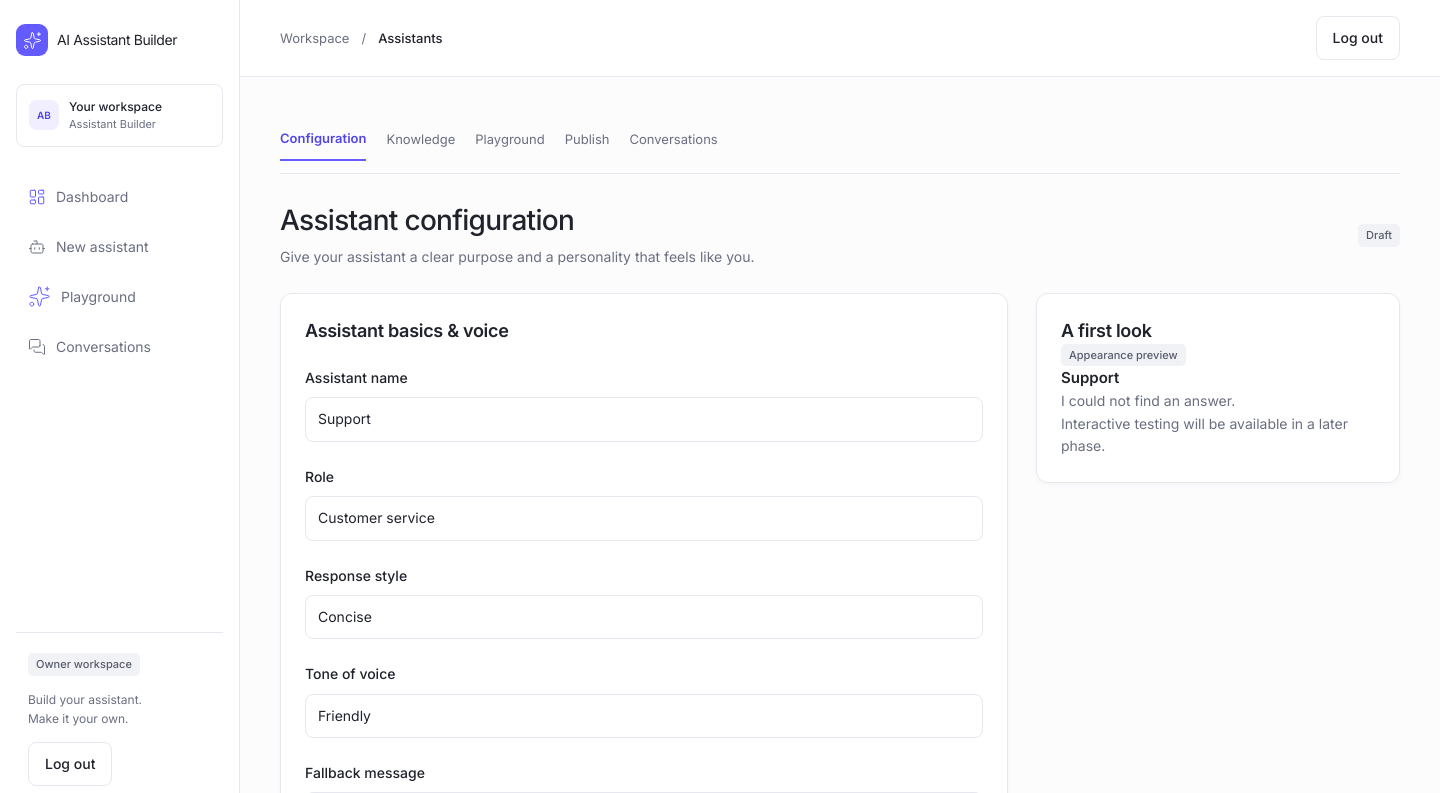
UI-04 assistant integration › retains input after a failed save
The image size is (1440, 793).
In the field labelled "Assistant name": (644, 420) [305, 397, 983, 442], type " edited"
(page scrolled)
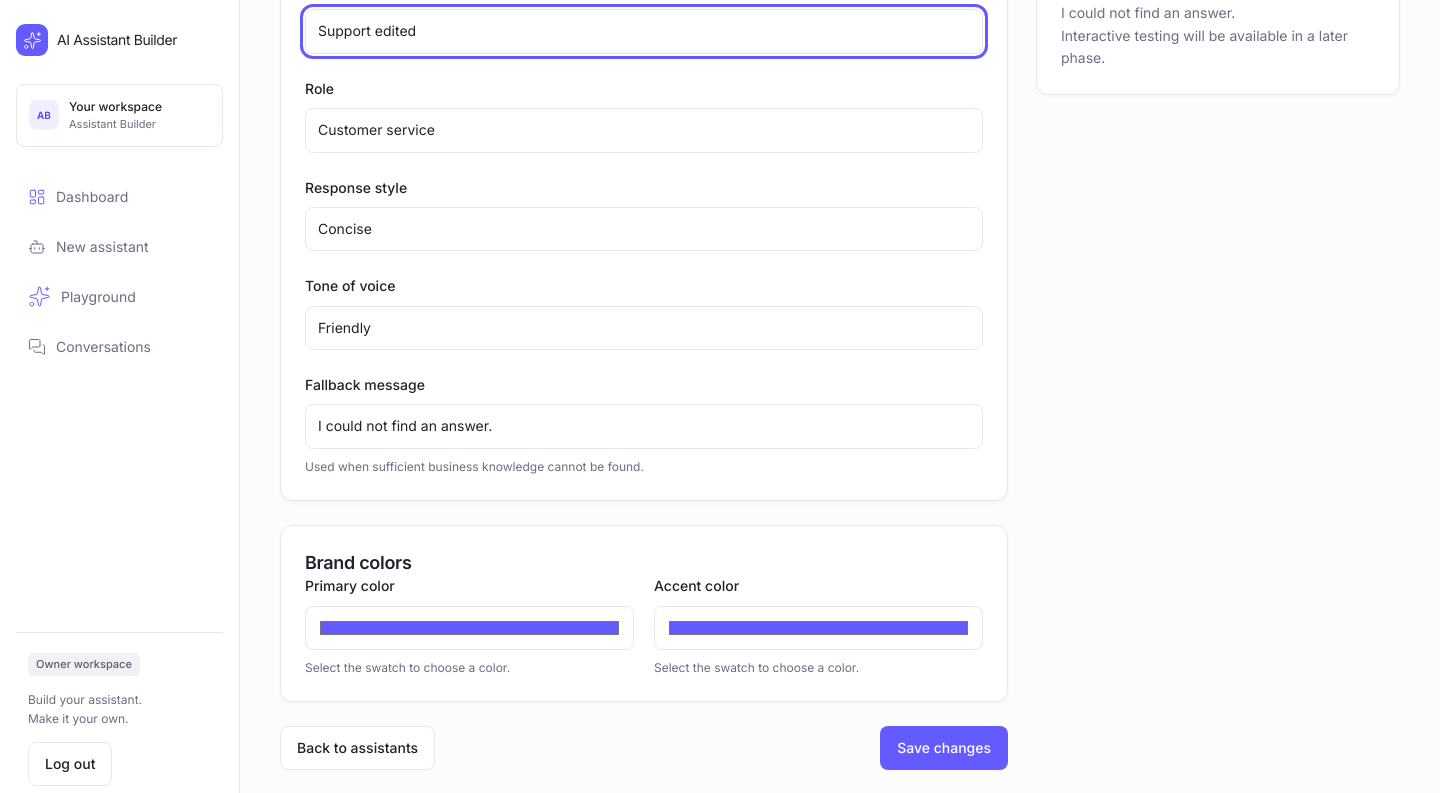
Click the button "Save changes": (944, 748) [880, 726, 1008, 770]
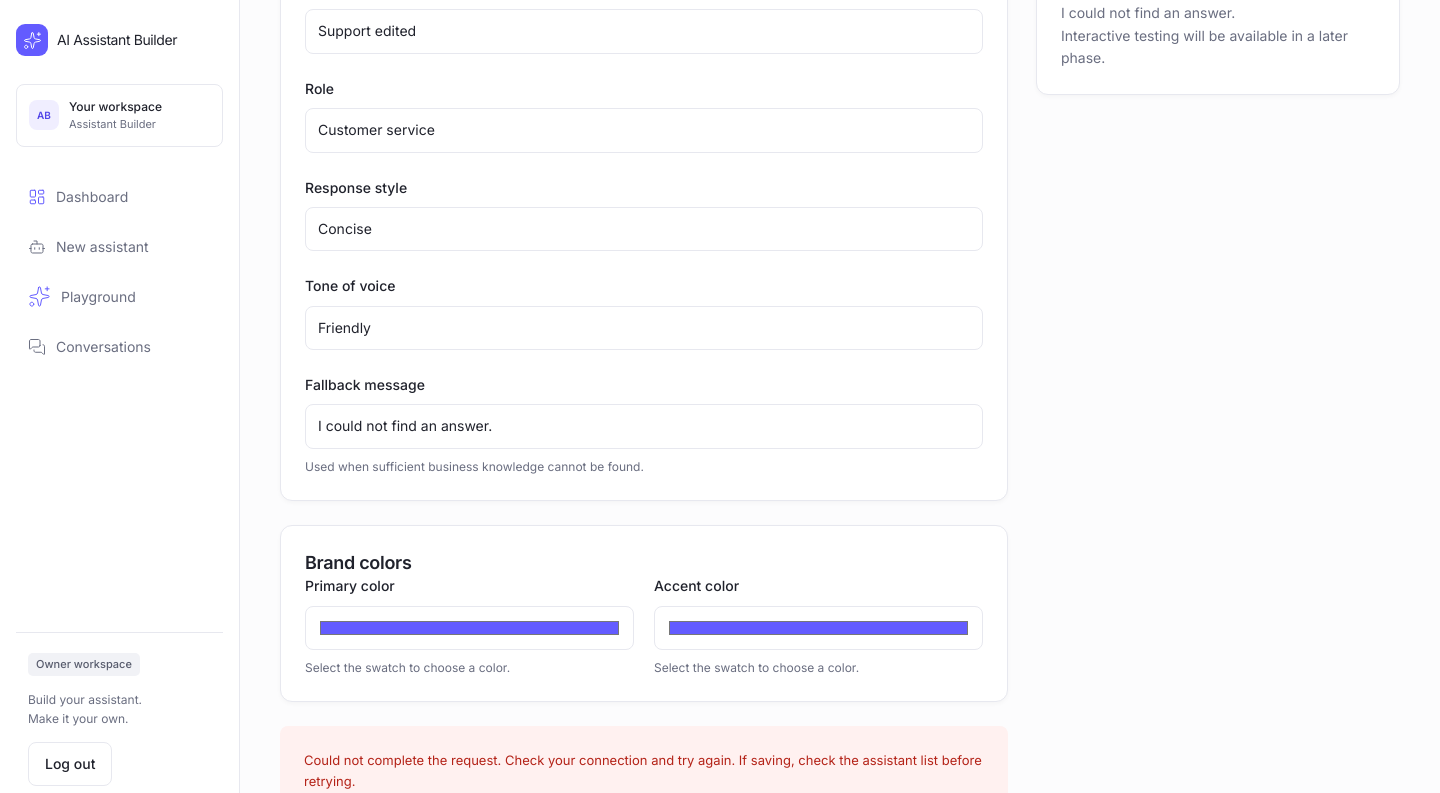
Expected: the field labelled "Assistant name" holds "Support edited", [305, 9, 983, 54]
Expected: the message shows "Could not complete", [304, 752, 982, 789]
